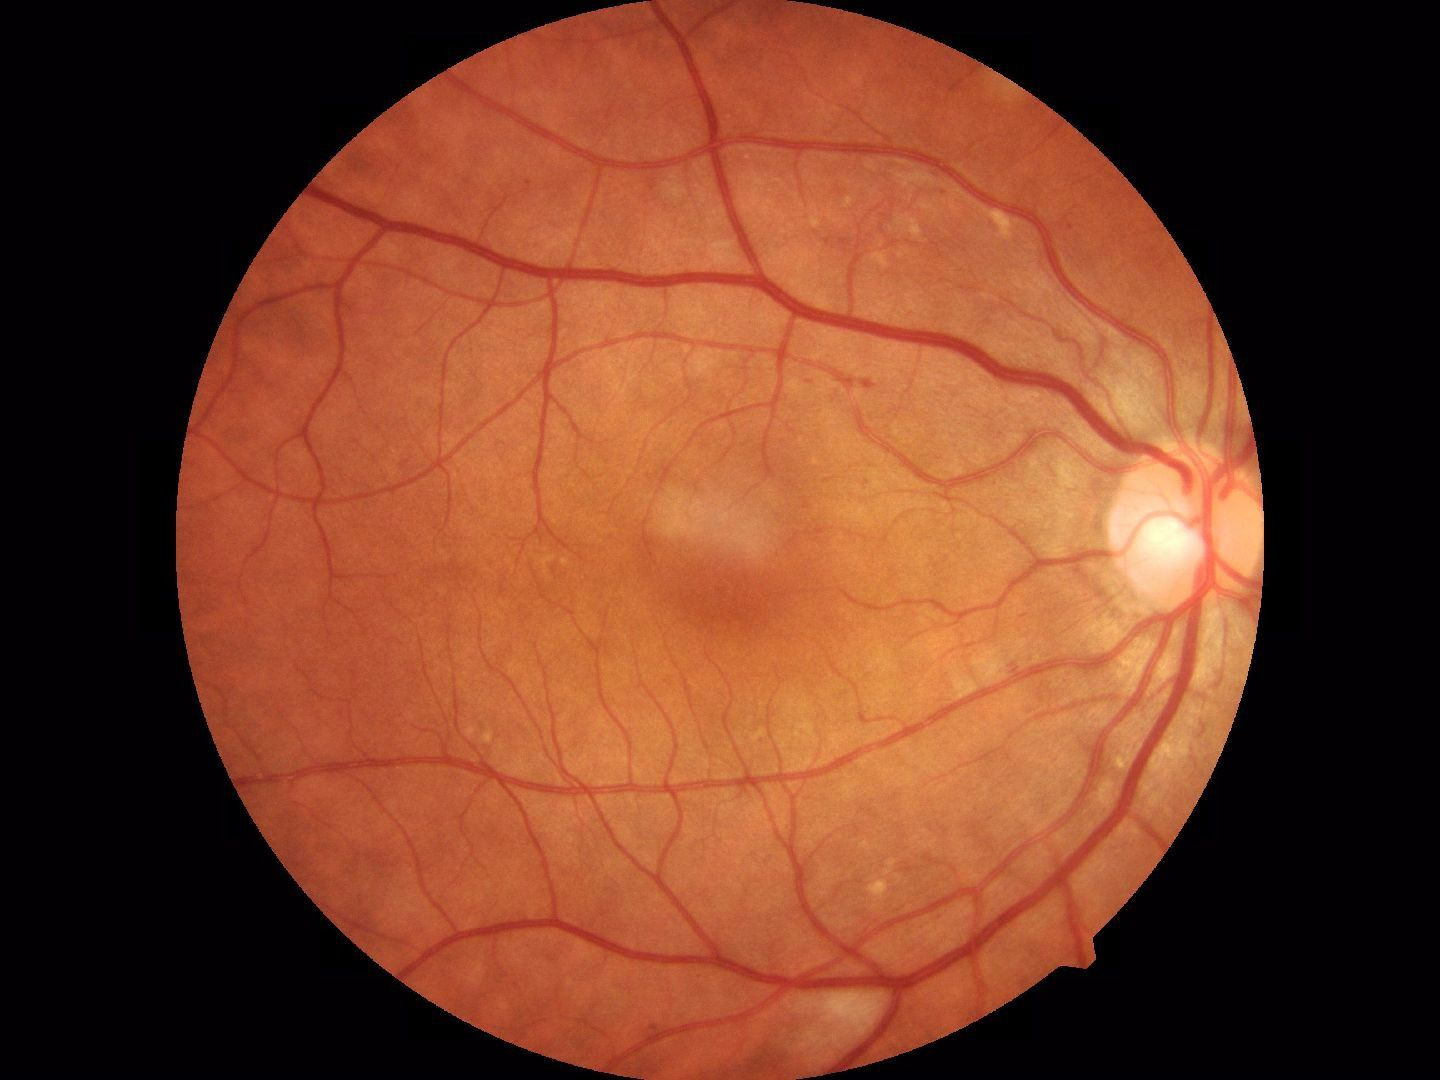Arterioles: (386, 686, 835, 902), (248, 290, 567, 575)
Hemorrhages: (618, 453, 857, 628)
Optic-Disc: (1095, 433, 1264, 622)
Venules: (749, 248, 1177, 403), (950, 820, 1147, 921)
